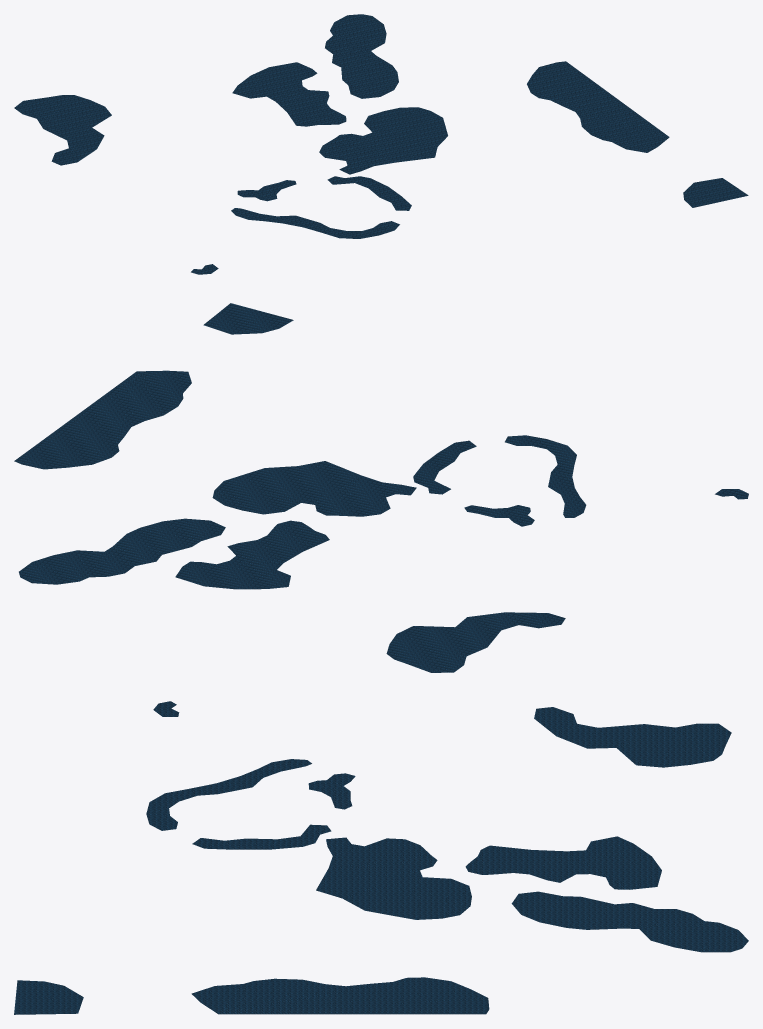
Rendered from water_xzl.fbx.
3 views of the same model, one above another, from view 1: azimuth 30°, elevation 25°; view 2: azimuth 150°, elevation 25°; view 3: azimuth 270°, elevation 25° (orthographic). The views are drawn at different scales.
Parts seen in each view (by area): view 1: water_xzl; view 2: water_xzl; view 3: water_xzl.
Part boxes in pixels (bbox=[...]): water_xzl: bbox=[14, 14, 748, 274]; water_xzl: bbox=[14, 303, 748, 672]; water_xzl: bbox=[14, 701, 748, 1014].
Size of the model in its own units: 65680 by 41 by 65107.
